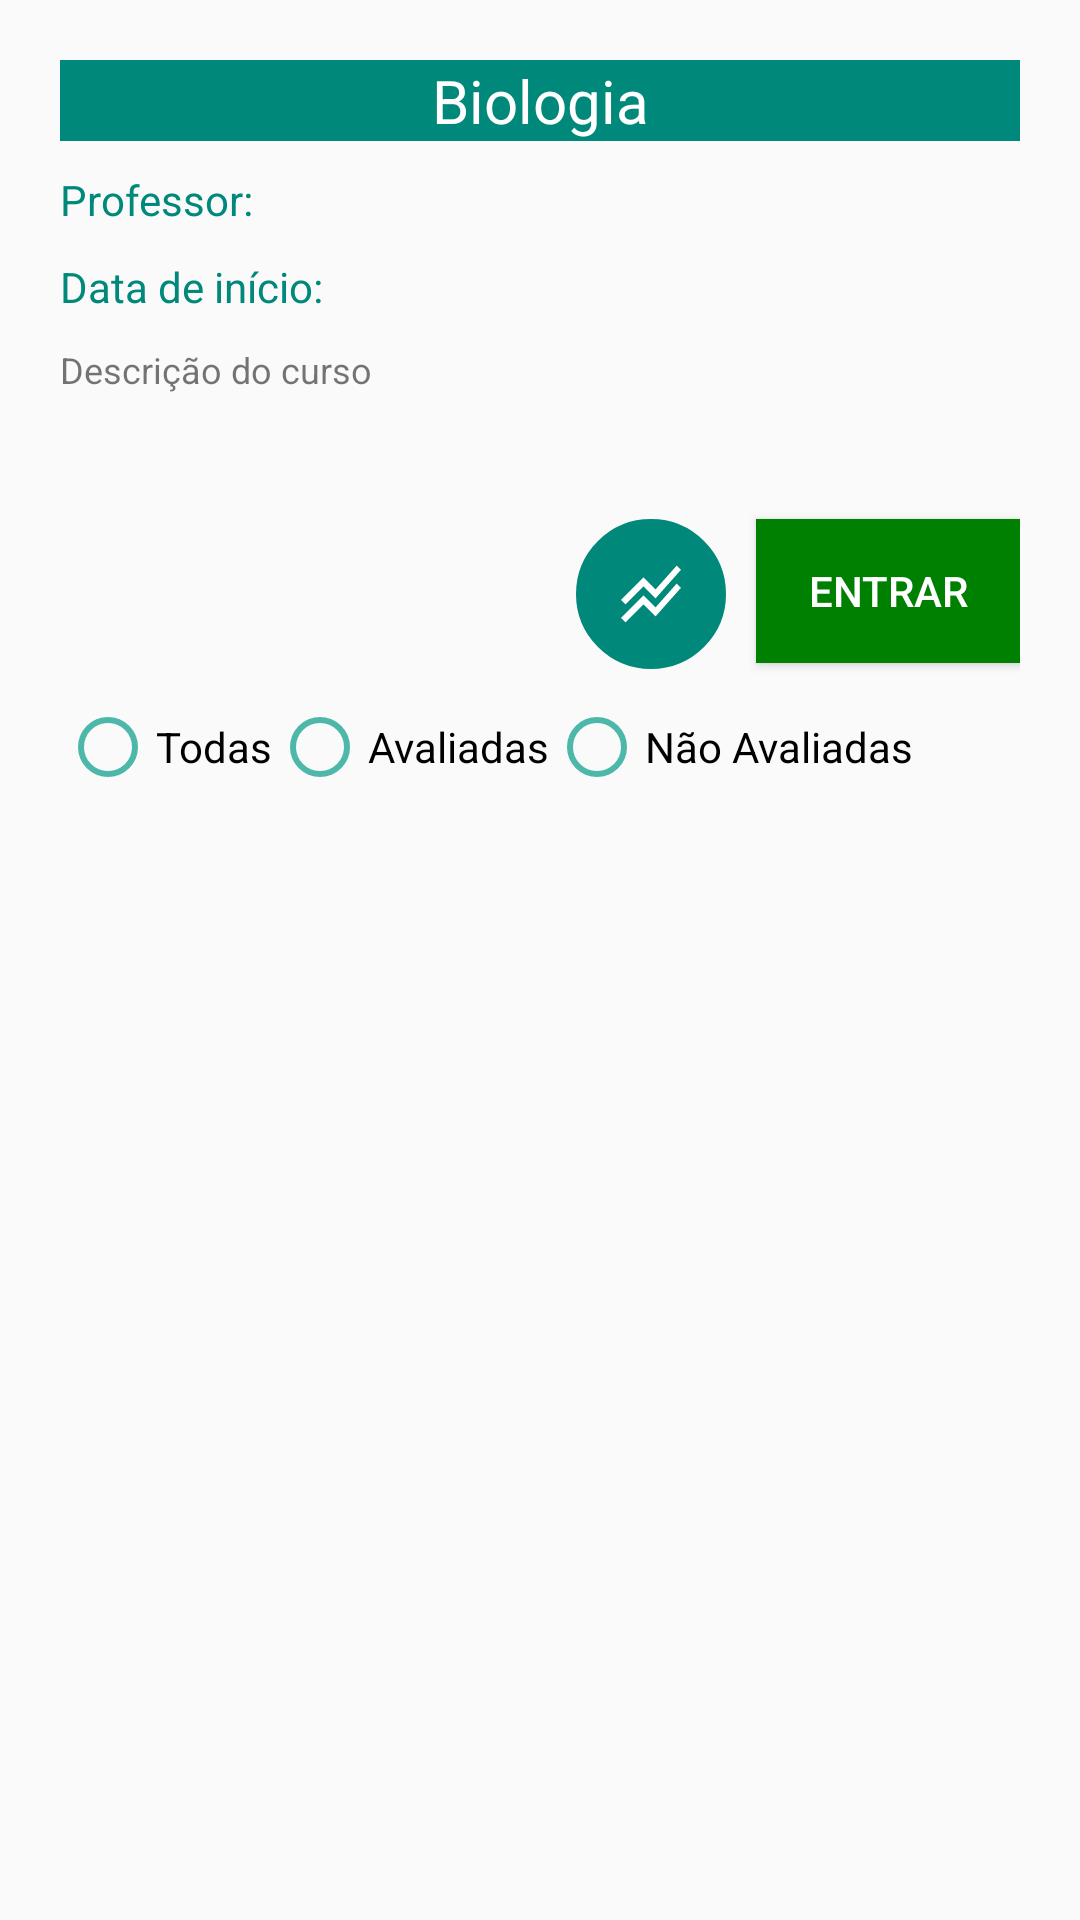

Screen size 1080px x 1920px. Icon name, then its box in pixels as [x1=x1, y1=y1, x2=x2, y2=y2]:
Ranking Button Image: [x1=576, y1=519, x2=726, y2=669]
